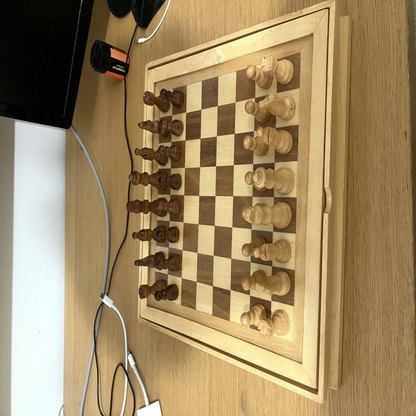bishop_black: (134, 148, 166, 163), (133, 230, 160, 240)
bishop_white: (257, 127, 292, 153), (254, 240, 291, 262)
king_black: (128, 198, 162, 215)
king_white: (242, 203, 293, 225)
knight_black: (136, 253, 164, 269), (138, 121, 161, 133)
knight_white: (261, 93, 295, 118), (257, 273, 290, 295)
pawn_black: (159, 118, 185, 135), (161, 89, 183, 108), (154, 256, 183, 270), (158, 173, 182, 189), (158, 198, 180, 215), (155, 286, 179, 301), (157, 228, 179, 243), (160, 145, 182, 160)
pawn_white: (247, 64, 273, 87), (241, 305, 264, 326), (245, 102, 269, 121), (244, 136, 268, 155), (243, 271, 265, 291), (243, 238, 265, 256), (245, 172, 253, 184)
queen_black: (129, 173, 161, 185)
queen_white: (254, 168, 295, 192)
rock_black: (143, 90, 170, 112), (140, 280, 165, 299)
rock_white: (260, 310, 291, 341), (262, 54, 294, 81)
